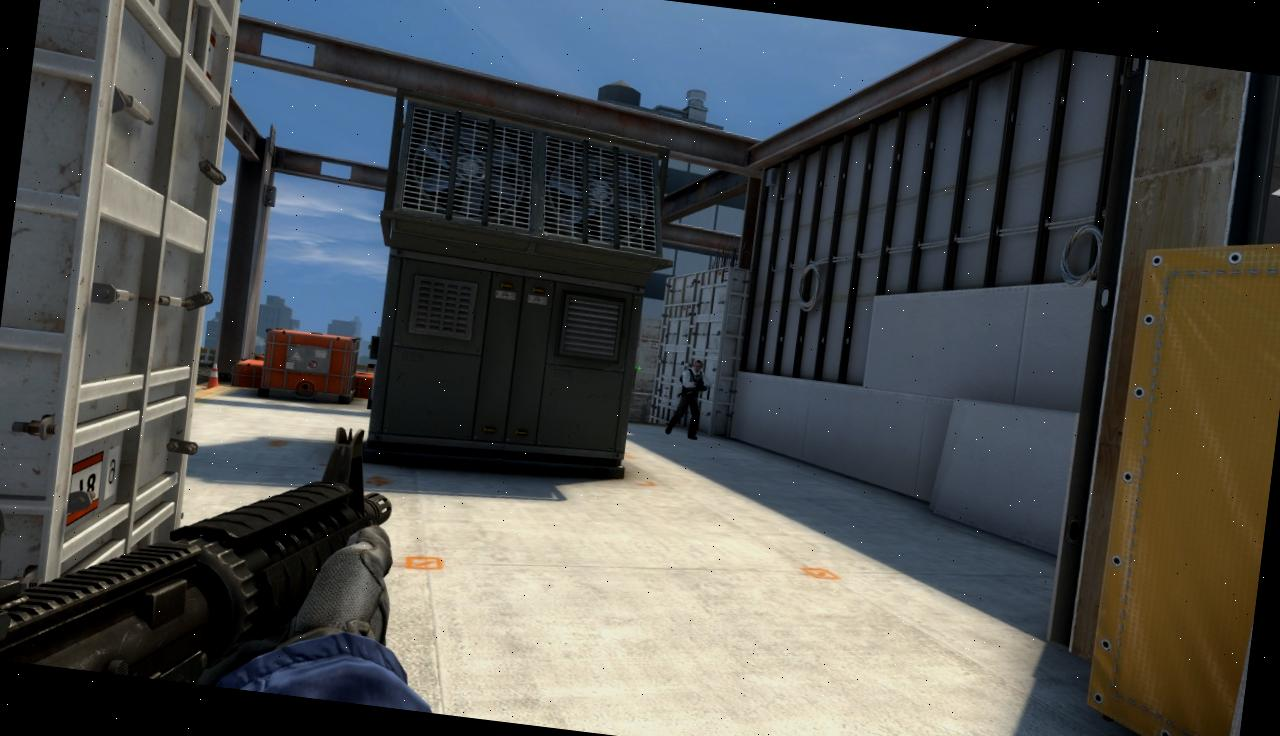rifle: (0, 378, 407, 706)
tt: (672, 358, 708, 438)
tthead: (692, 360, 704, 374)
